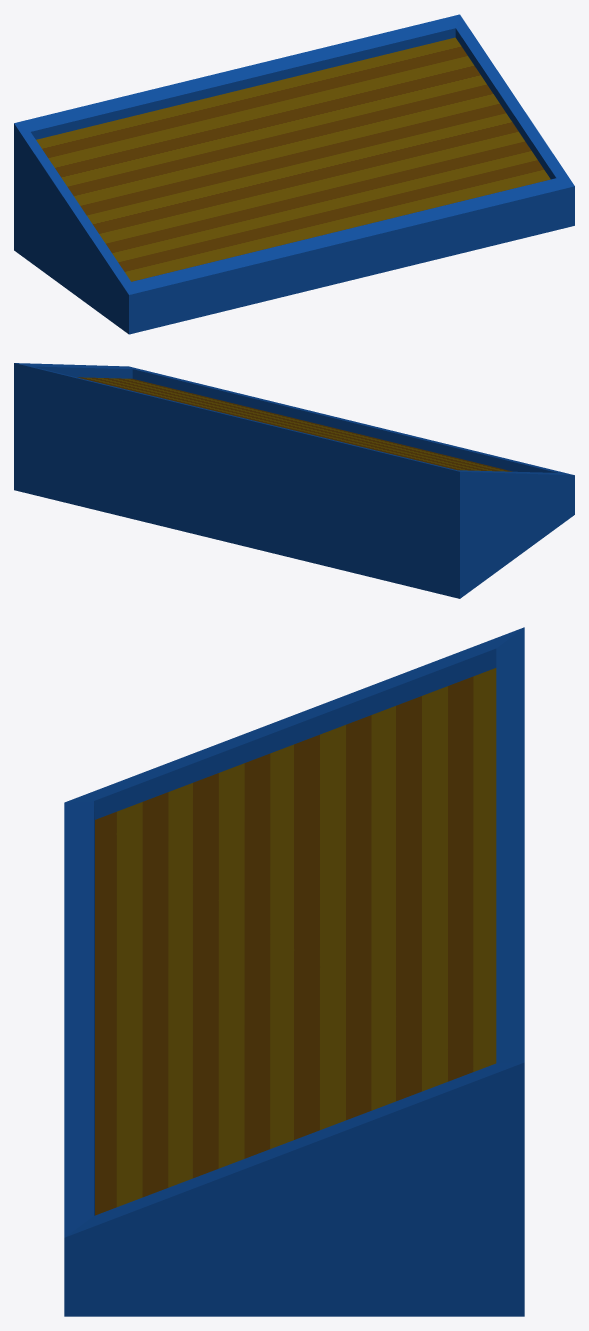
File: Grandstand.glb
The picture shows the model from 3 angles, top to bottom: view 1: azimuth 30°, elevation 25°; view 2: azimuth 150°, elevation 25°; view 3: azimuth 270°, elevation 25°; orthographic projection. The views are drawn at different scales.
Parts seen in each view (by area): view 1: GrandStand; view 2: GrandStand; view 3: GrandStand.
Boxes of the visible parts, x1,y1,x2,y2 form: GrandStand: [14, 14, 574, 334]; GrandStand: [14, 363, 574, 598]; GrandStand: [64, 627, 524, 1316].
Bounding box in the file's own units: 15.99 × 4.36 × 7.14.
Materials: 1 (1 with a texture image).
